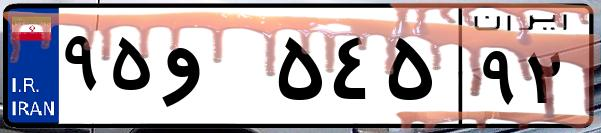2: (525, 38, 570, 115)
4: (330, 28, 385, 110)
5: (270, 28, 330, 110), (385, 28, 445, 110), (110, 28, 158, 98)
9: (57, 26, 110, 100), (475, 38, 525, 113)
و: (158, 20, 270, 120)
